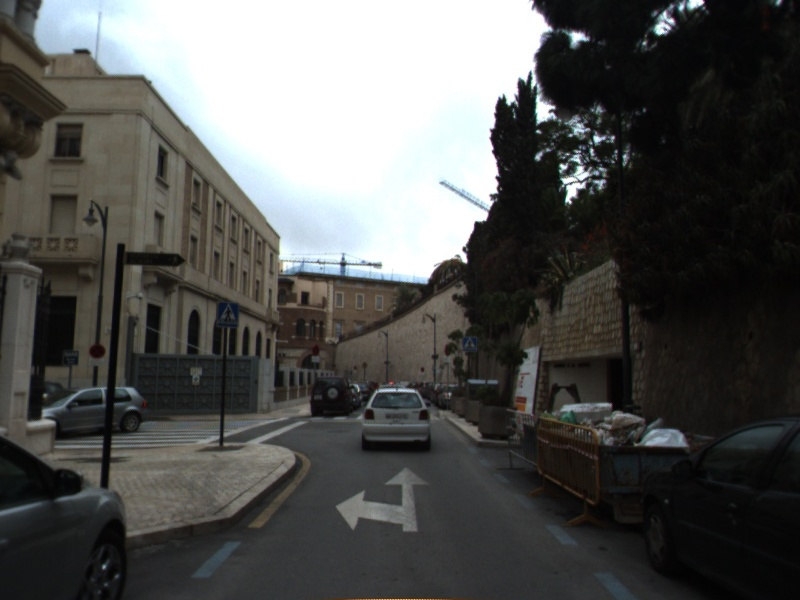STRAIGHT_LEFT: (334, 466, 432, 533)
